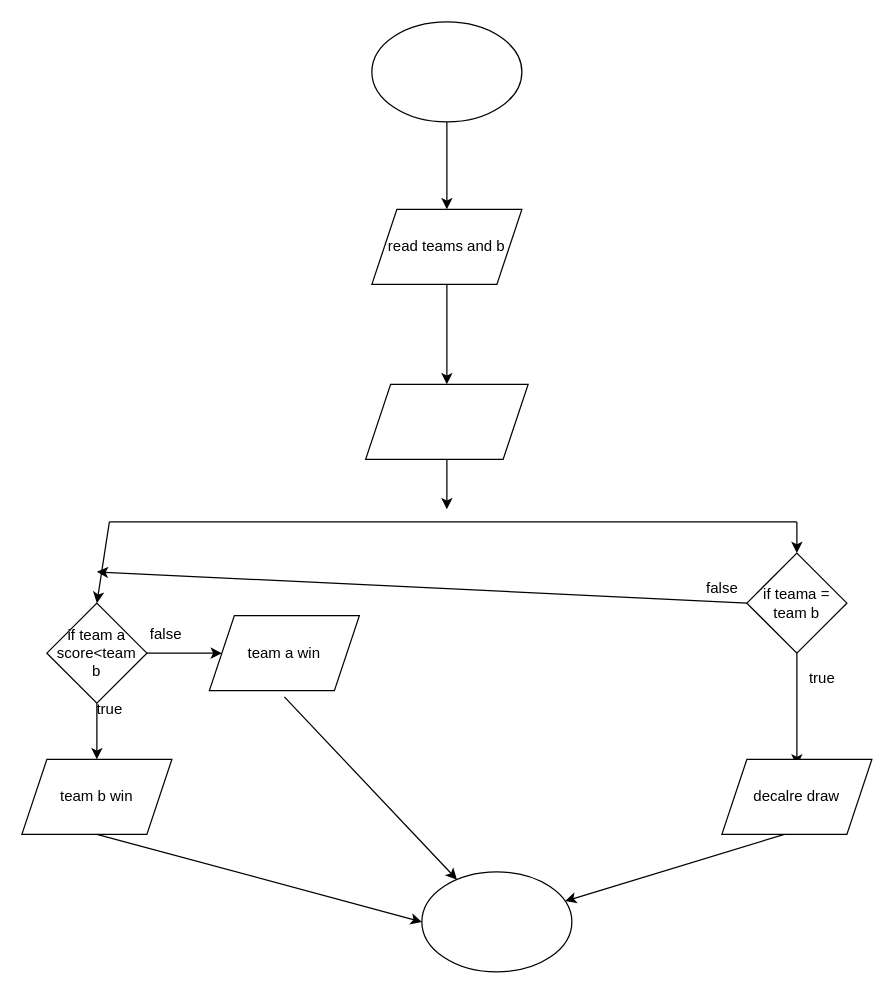
Some shapes in this 894 by 994 pixel diagram are drawn without their labels. Each missing label, with the centre of its shape:
"read scroes of team a and b" goes at point 446,421.
"start/begin" goes at point 446,71.
"stop/end" goes at point 496,921.
